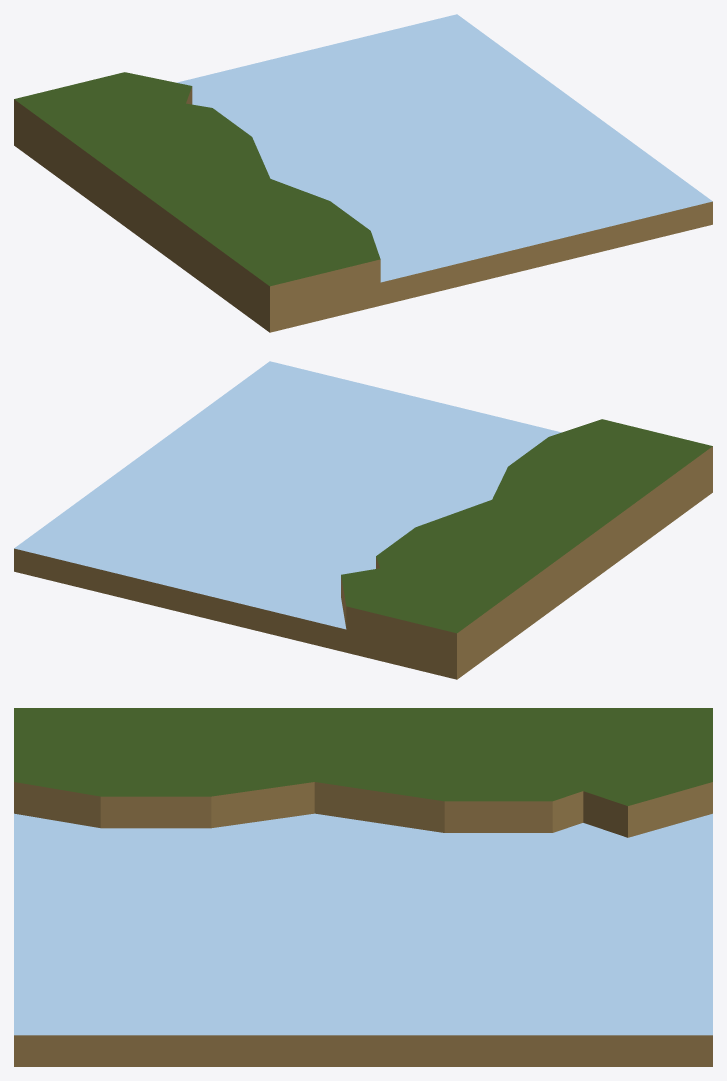
File: Terrain_Modular_Tiles_Grass_Dirt_Water_Edge_Straight_01.fbx
The picture shows the model from 3 angles, top to bottom: view 1: azimuth 30°, elevation 25°; view 2: azimuth 150°, elevation 25°; view 3: azimuth 270°, elevation 25°; orthographic projection. The views are drawn at different scales.
Parts seen in each view (by area): view 1: Terrain_Modular_Tiles_Grass_Dirt_Water_Edge_Straight_01; view 2: Terrain_Modular_Tiles_Grass_Dirt_Water_Edge_Straight_01; view 3: Terrain_Modular_Tiles_Grass_Dirt_Water_Edge_Straight_01.
Boxes of the visible parts, <box> form: Terrain_Modular_Tiles_Grass_Dirt_Water_Edge_Straight_01: <box>14,14,712,332</box>; Terrain_Modular_Tiles_Grass_Dirt_Water_Edge_Straight_01: <box>14,361,712,679</box>; Terrain_Modular_Tiles_Grass_Dirt_Water_Edge_Straight_01: <box>14,708,712,1066</box>.
Size of the model in its own units: 3000 by 300 by 3000.
